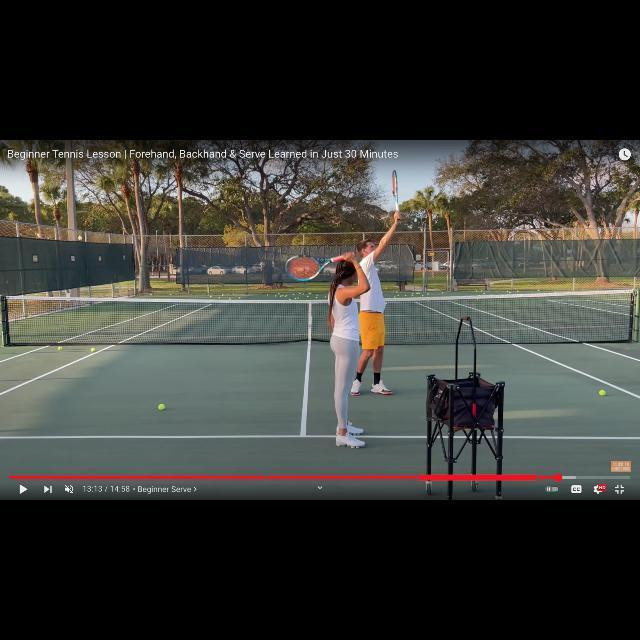tennis-ball: (599, 390, 605, 396), (158, 404, 164, 410), (58, 346, 62, 350), (91, 348, 95, 352), (509, 291, 511, 293), (416, 292, 418, 294), (292, 293, 294, 295), (150, 293, 152, 295), (266, 294, 268, 296), (397, 294, 399, 296), (411, 294, 413, 296), (316, 294, 318, 296), (404, 294, 406, 296), (274, 295, 276, 297), (209, 295, 211, 297), (284, 295, 286, 297), (306, 295, 308, 297), (218, 297, 220, 299), (315, 297, 317, 299), (297, 297, 299, 299), (238, 297, 240, 299), (279, 296, 281, 296)
